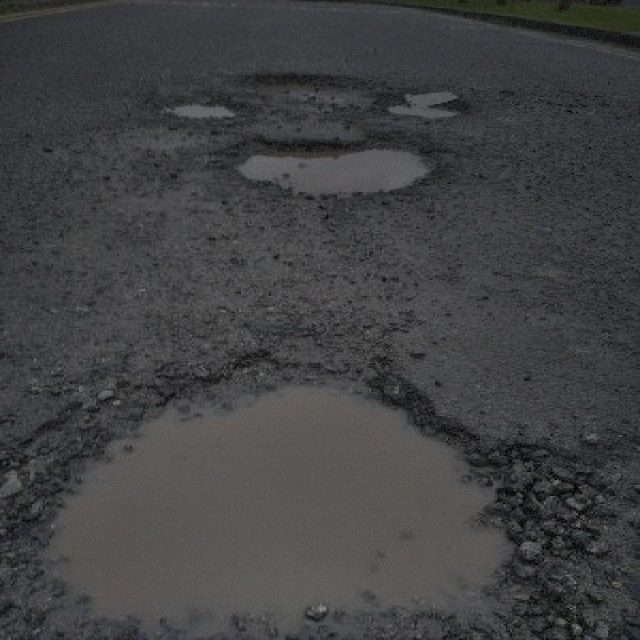pothole: (6, 341, 593, 638), (217, 134, 443, 196), (228, 70, 374, 96), (382, 84, 465, 118), (154, 95, 241, 122)
